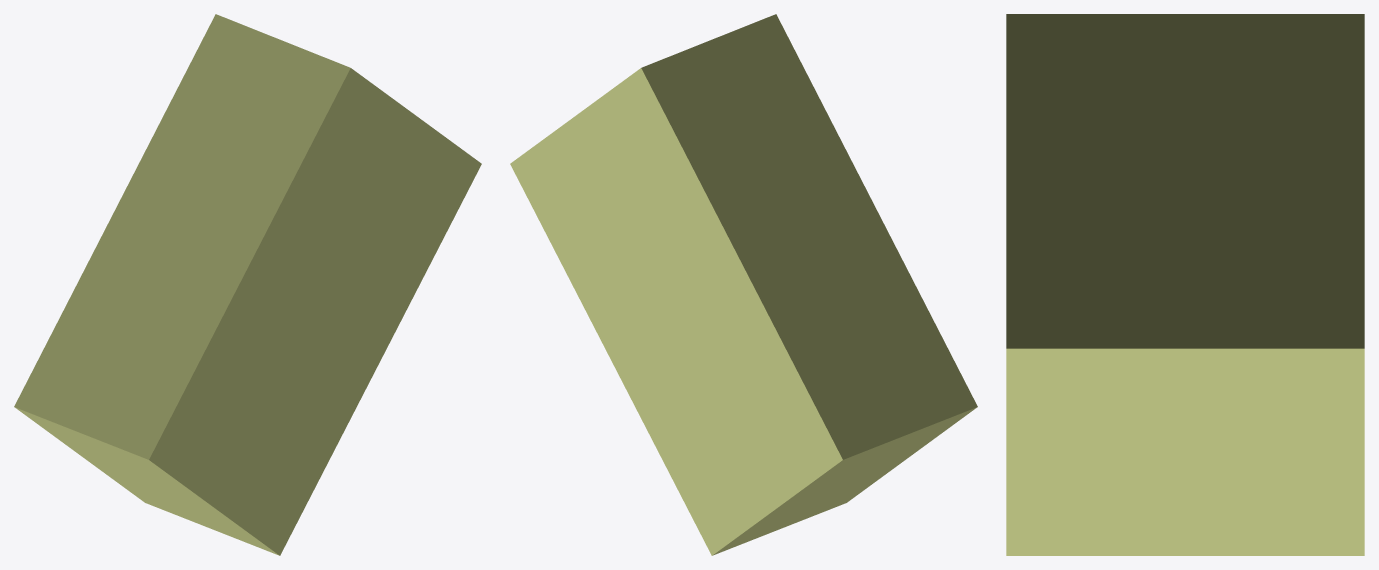
The picture shows the model from 3 angles, left to right: view 1: azimuth 30°, elevation 25°; view 2: azimuth 150°, elevation 25°; view 3: azimuth 270°, elevation 25°; orthographic projection. The views are drawn at different scales.
Parts seen in each view (by area): view 1: 0_1_1_3_3_1_0_2_0_3_2; view 2: 0_1_1_3_3_1_0_2_0_3_2; view 3: 0_1_1_3_3_1_0_2_0_3_2.
Boxes of the visible parts, x1,y1,x2,y2 form: 0_1_1_3_3_1_0_2_0_3_2: [14, 14, 481, 555]; 0_1_1_3_3_1_0_2_0_3_2: [510, 14, 977, 555]; 0_1_1_3_3_1_0_2_0_3_2: [1006, 14, 1364, 555].
Size of the model in its own units: 8.9 by 10.84 by 6.
